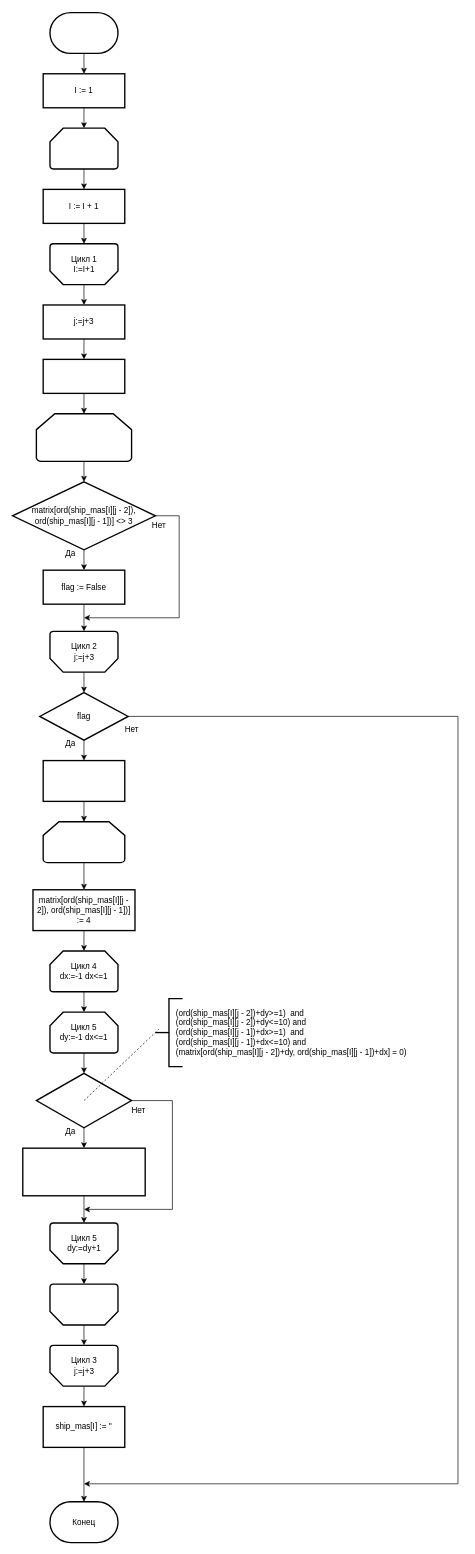
This 475x1554 diagram has some shape labels left out. Each missing label, with the centre of its shape:
"flag := True" goes at (x=83, y=376).
"IfKilled Начало" goes at (x=83, y=33).
"j := Pos(' ', ship_mas[I])" goes at (x=83, y=781).
"matrix[ord(ship_mas[I][j - 2])+dy, ord(ship_mas[I][j - 1])+dx] := 2" goes at (x=84, y=1171).
"Цикл 1 Pos(cords, ship_mas[I]) = 0" goes at (x=83, y=148).
"Цикл 2 (j<=Length(ship_mas[I])) and flag" goes at (x=83, y=437).
"Цикл 3 (j<= Length(ship_mas[I]))" goes at (x=83, y=842).
"Цикл 4 dx:=dx+1" goes at (x=83, y=1304).
